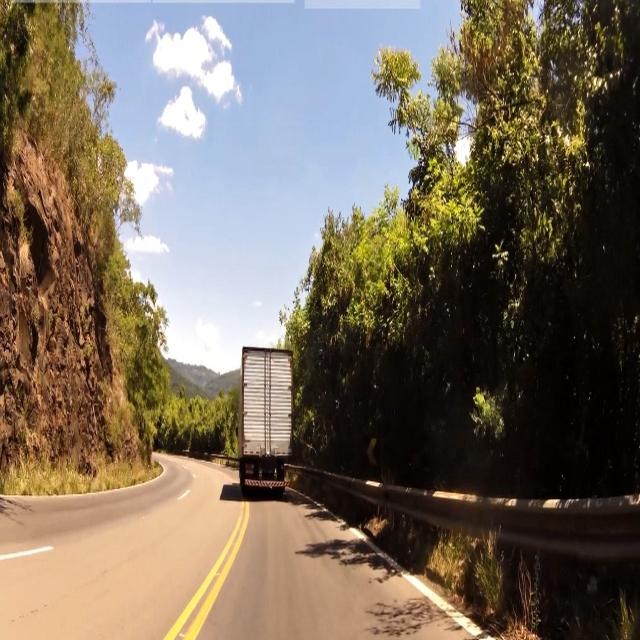Del: (366, 434, 382, 470)
